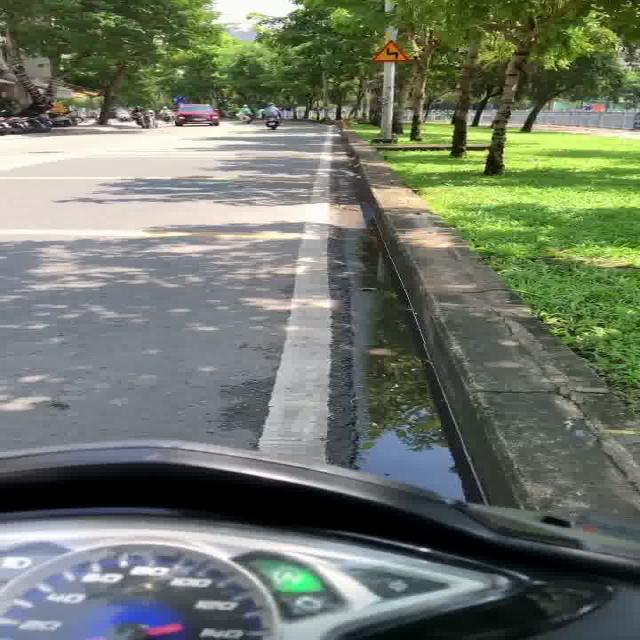Bien bao nhieu cho ngoat nguy hiem lien tiep: (370, 35, 416, 65)
